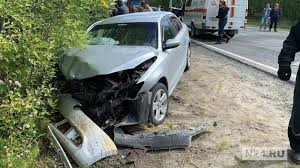car: (49, 8, 235, 149)
